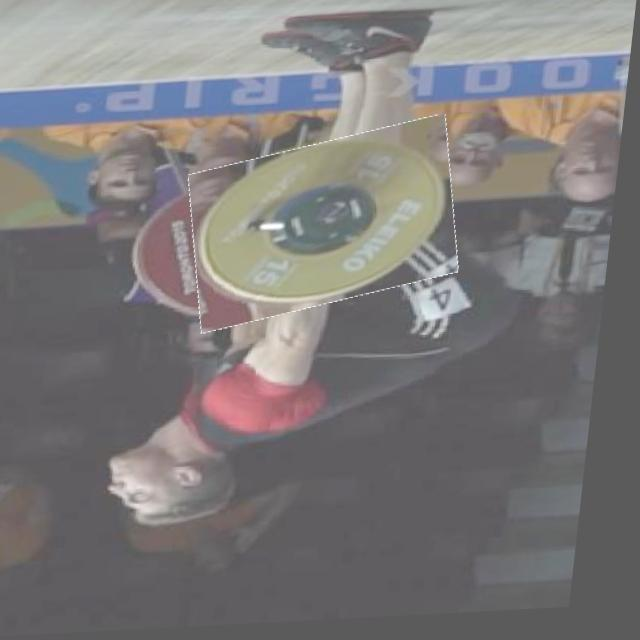barbell: (187, 130, 473, 326)
